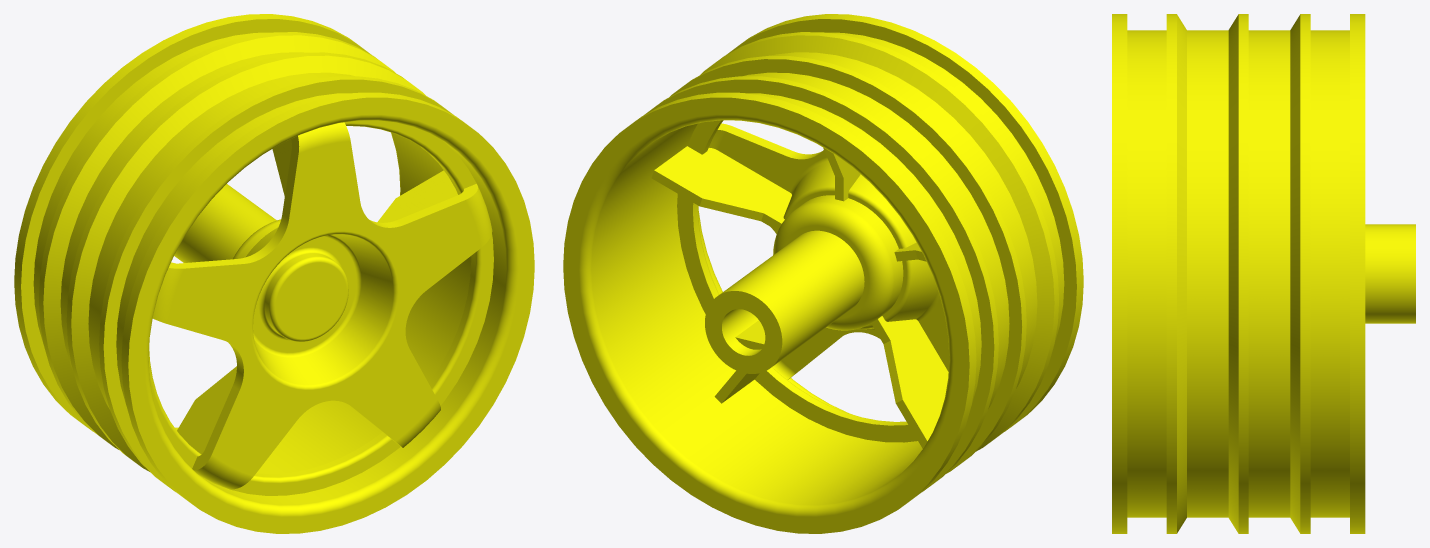
The model's file is wheel_of_robo_1__Rim_1_.obj.
3 views of the same model, side by side, from view 1: azimuth 30°, elevation 25°; view 2: azimuth 150°, elevation 25°; view 3: azimuth 270°, elevation 25° (orthographic). The views are drawn at different scales.
Visible parts, largest first — view 1: mesh7369, mesh7443, mesh7473, mesh7442, mesh7451, mesh7455, mesh7447, mesh7459, mesh7367, mesh7441, mesh7450, mesh7428 (+30 smaller); view 2: mesh7473, mesh7461, mesh7462, mesh7449, mesh7492, mesh7453, mesh7457, mesh7445, mesh7454, mesh7450, mesh7490, mesh7463 (+21 smaller); view 3: mesh7454, mesh7450, mesh7446, mesh7458, mesh7444, mesh7460, mesh7448, mesh7452, mesh7456, mesh7455, mesh7451, mesh7492 (+1 smaller).
Part boxes in pixels (x1=…): mesh7369: x1=168, y1=141, x2=480, y2=475; mesh7443: x1=128, y1=97, x2=534, y2=533; mesh7473: x1=175, y1=133, x2=471, y2=473; mesh7442: x1=144, y1=114, x2=518, y2=516; mesh7451: x1=71, y1=55, x2=425, y2=471; mesh7455: x1=43, y1=35, x2=395, y2=449; mesh7447: x1=103, y1=79, x2=453, y2=492; mesh7459: x1=21, y1=19, x2=371, y2=431; mesh7367: x1=254, y1=234, x2=393, y2=384; mesh7441: x1=200, y1=141, x2=506, y2=505; mesh7450: x1=88, y1=72, x2=354, y2=408; mesh7428: x1=149, y1=120, x2=493, y2=495; mesh7473: x1=591, y1=123, x2=922, y2=505; mesh7461: x1=563, y1=97, x2=969, y2=533; mesh7462: x1=579, y1=114, x2=953, y2=516; mesh7449: x1=700, y1=35, x2=1054, y2=451; mesh7492: x1=719, y1=230, x2=864, y2=366; mesh7453: x1=670, y1=59, x2=1021, y2=473; mesh7457: x1=644, y1=79, x2=994, y2=492; mesh7445: x1=726, y1=19, x2=1076, y2=431; mesh7454: x1=743, y1=72, x2=1009, y2=408; mesh7450: x1=772, y1=52, x2=1037, y2=388; mesh7490: x1=773, y1=202, x2=894, y2=330; mesh7463: x1=654, y1=146, x2=791, y2=223; mesh7454: x1=1248, y1=30, x2=1290, y2=517; mesh7450: x1=1187, y1=30, x2=1228, y2=517; mesh7446: x1=1127, y1=30, x2=1166, y2=517; mesh7458: x1=1310, y1=30, x2=1349, y2=517; mesh7444: x1=1112, y1=14, x2=1127, y2=533; mesh7460: x1=1350, y1=14, x2=1365, y2=533; mesh7448: x1=1166, y1=14, x2=1176, y2=533; mesh7452: x1=1238, y1=14, x2=1248, y2=533; mesh7456: x1=1300, y1=14, x2=1310, y2=533; mesh7455: x1=1290, y1=14, x2=1300, y2=533; mesh7451: x1=1228, y1=14, x2=1238, y2=533; mesh7492: x1=1365, y1=224, x2=1415, y2=323.
Size of the model in its own units: 0.0514 by 0.0513 by 0.03.
